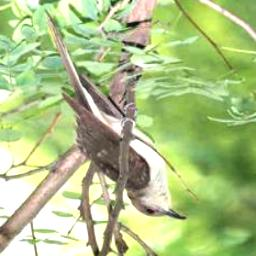Cuckoo: (43, 11, 186, 221)
